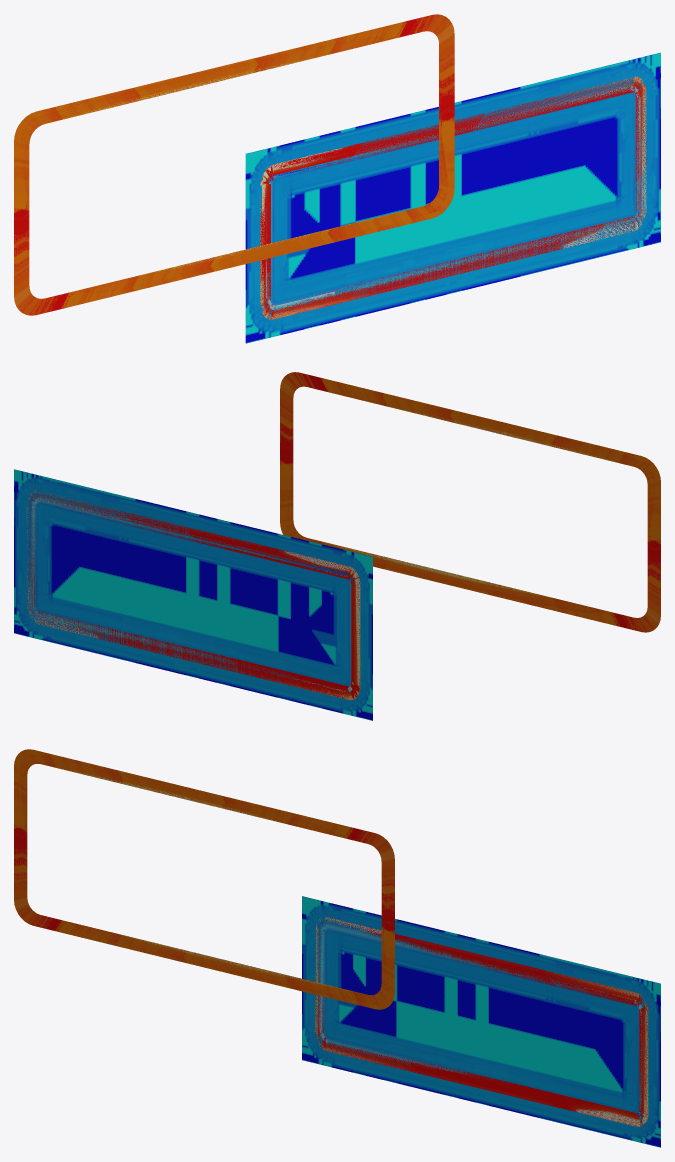
The model's file is newwar_bigreward.fbx.
3 views of the same model, one above another, from view 1: azimuth 30°, elevation 25°; view 2: azimuth 150°, elevation 25°; view 3: azimuth 330°, elevation 25° (orthographic). The views are drawn at different scales.
Visible parts, largest first — view 1: di, ggtj_light (×3), ui_wuqi_03, ui_wuqi_02, glow_01; view 2: di, ggtj_light (×3), ui_wuqi_03, ui_wuqi_02, glow_01; view 3: di, ggtj_light (×3), ui_wuqi_03, ui_wuqi_02.
Part boxes in pixels (x1,y1,x2,y2): di: (245, 52, 660, 343); ggtj_light (×3): (14, 14, 454, 315); ui_wuqi_03: (260, 76, 646, 319); ui_wuqi_02: (262, 77, 644, 318); glow_01: (266, 86, 640, 309); di: (14, 469, 372, 720); ggtj_light (×3): (280, 372, 660, 632); ui_wuqi_03: (26, 490, 360, 700); ui_wuqi_02: (28, 490, 357, 698); glow_01: (31, 499, 355, 691); di: (302, 896, 660, 1147); ggtj_light (×3): (14, 749, 394, 1009); ui_wuqi_03: (314, 917, 648, 1126); ui_wuqi_02: (316, 919, 646, 1125).
Size of the model in its own units: 461 by 210 by 58.02.
